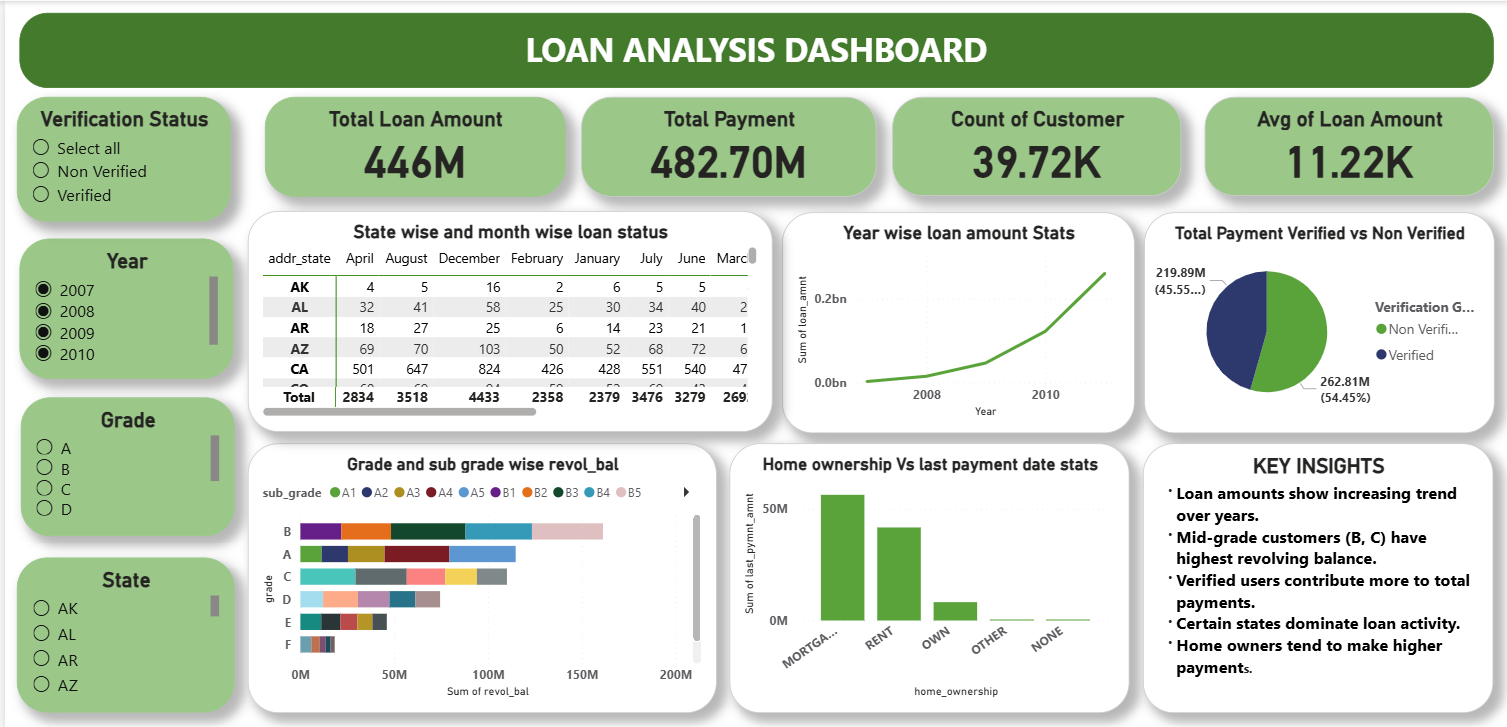

What the dashboard file says about the page in this screenshot:
{"tool":"tableau","page":{"name":"Dashboard 1","canvas":[1000,1000],"units":"permille","ordinal":0},"visuals":[{"type":"worksheet","title":"Sheet 6","mark":"Automatic","box":[4.8,9.9,990.3,156.6]},{"type":"worksheet","title":"Q1","mark":"Automatic","rows":["Calculation_452893238029520896"],"cols":["loan_amnt"],"box":[4.8,166.5,844.9,258.8]},{"type":"filter","title":"Q1","param":"[federated.10lv01j1fj7xnv1e9vdkz1kqmt2v].[yr:Calculation_452893238029520896:ok]","box":[849.7,166.5,145.4,234.3]},{"type":"filter","title":"Q1","param":"[federated.10lv01j1fj7xnv1e9vdkz1kqmt2v].[qr:Calculation_452893238029520896:ok]","box":[849.7,400.7,145.4,205.9]},{"type":"worksheet","title":"Q2","mark":"Bar","rows":["revol_bal"],"cols":["grade","sub_grade"],"box":[4.8,425.3,602.3,215.3]},{"type":"worksheet","title":"Q3","mark":"Pie","box":[607.1,425.3,242.6,215.3]},{"type":"worksheet","title":"Q4","mark":"Automatic","rows":["id"],"cols":["Calculation_452893238029520896"],"box":[4.8,640.6,422.4,349.6]},{"type":"worksheet","title":"Q5","mark":"Bar","rows":["total_rec_int"],"cols":["home_ownership"],"box":[427.3,640.6,422.4,349.6]}]}

Visuals, with their boxes on the dashboard's canvas, which has no fixed pixel size, in thousandths of its width and height (x1, y1, x2, y2). These are canvas units, not pixel positions in the 1507x727 screenshot, which may show the page scaled, cropped or inside an application window:
"Sheet 6" worksheet: bbox=(5, 10, 995, 166)
"Q1" worksheet: bbox=(5, 166, 850, 425)
"Q1" filter: bbox=(850, 166, 995, 401)
"Q1" filter: bbox=(850, 401, 995, 607)
"Q2" worksheet (Bar marks): bbox=(5, 425, 607, 641)
"Q3" worksheet (Pie marks): bbox=(607, 425, 850, 641)
"Q4" worksheet: bbox=(5, 641, 427, 990)
"Q5" worksheet (Bar marks): bbox=(427, 641, 850, 990)
